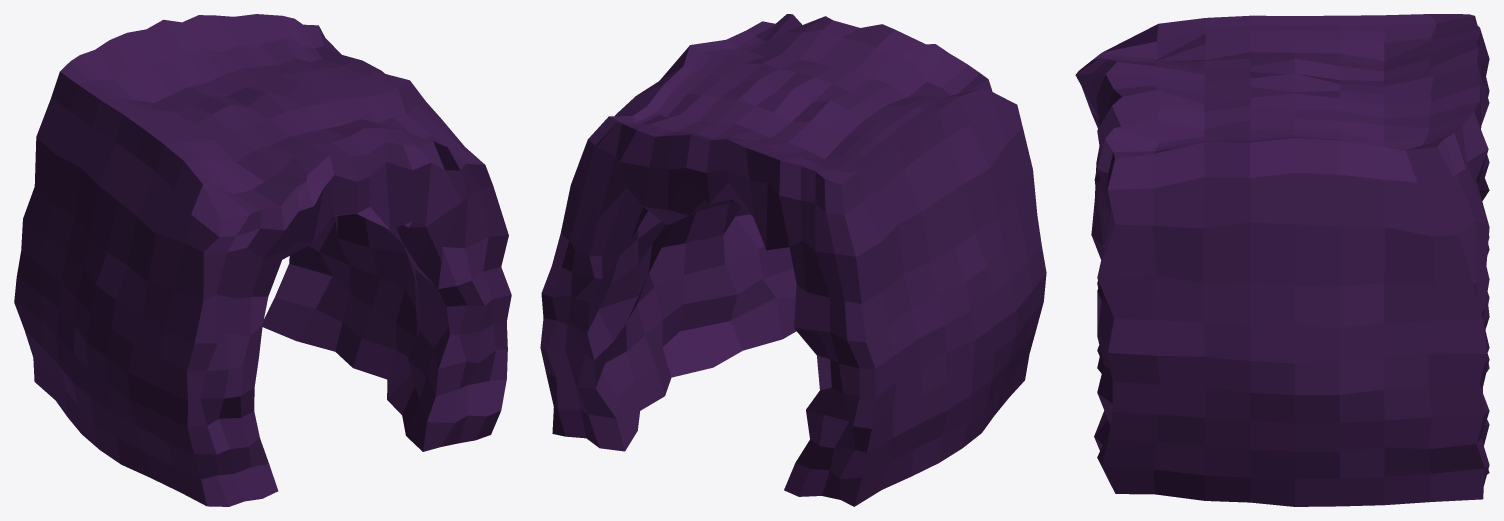
Rendered from env_cave_entrance_01.fbx.
3 renders of one model, left to right at view 1: azimuth 30°, elevation 25°; view 2: azimuth 150°, elevation 25°; view 3: azimuth 270°, elevation 25°, orthographic. The views are drawn at different scales.
Visible parts, largest first — view 1: env_cave_entrance.001; view 2: env_cave_entrance.001; view 3: env_cave_entrance.001.
Part boxes in pixels (x1,y1,x2,y2): env_cave_entrance.001: (14, 14, 511, 506); env_cave_entrance.001: (540, 14, 1046, 506); env_cave_entrance.001: (1075, 14, 1489, 506).
Size of the model in its own units: 684 by 752 by 658.
